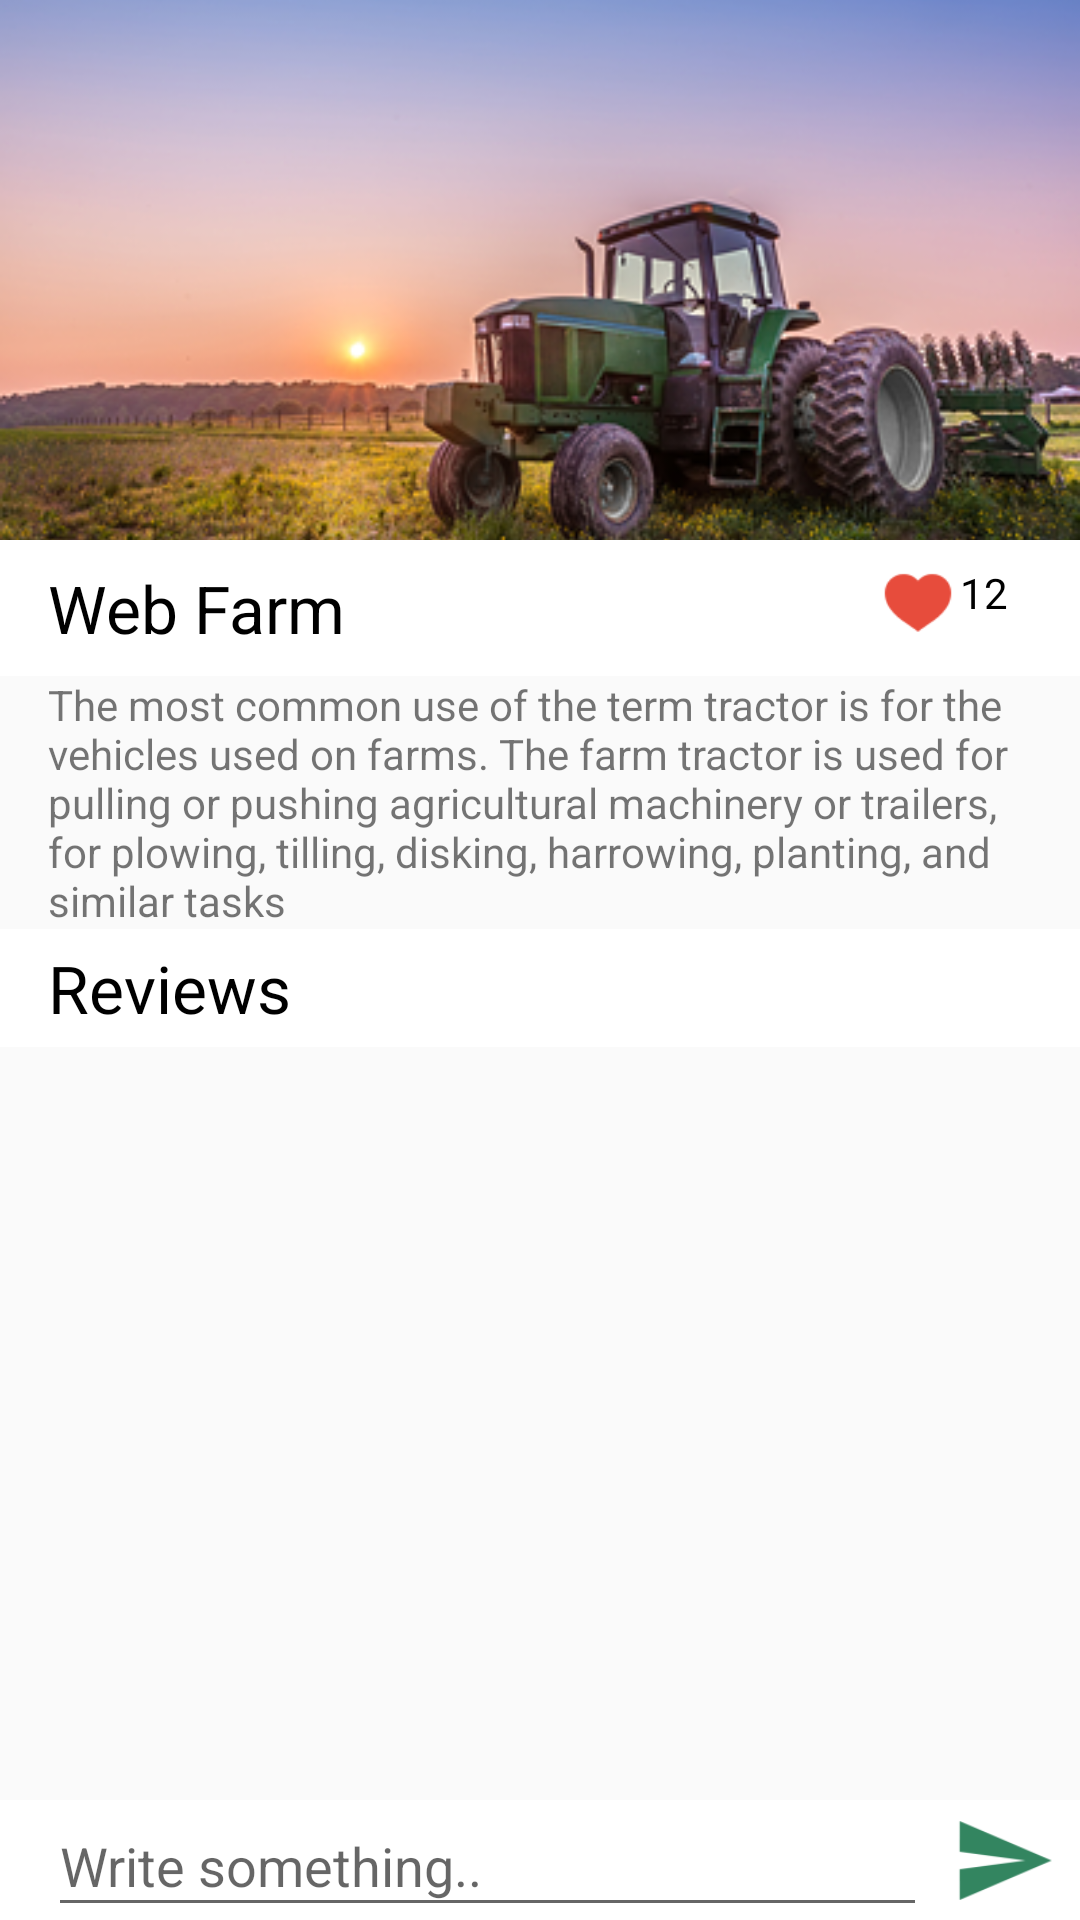

Icons on this 1080 × 1920 Android screen, each with the point to tap as [x,y]:
love: [918,603]
send: [1005,1860]
